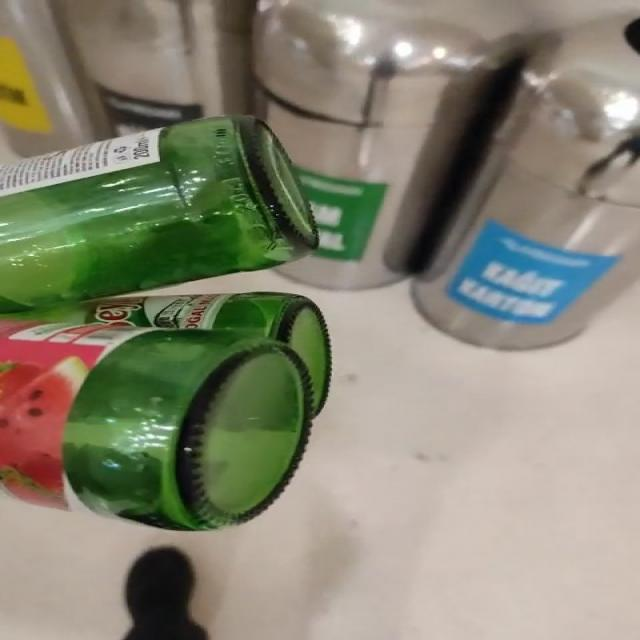glass: (0, 116, 331, 531)
